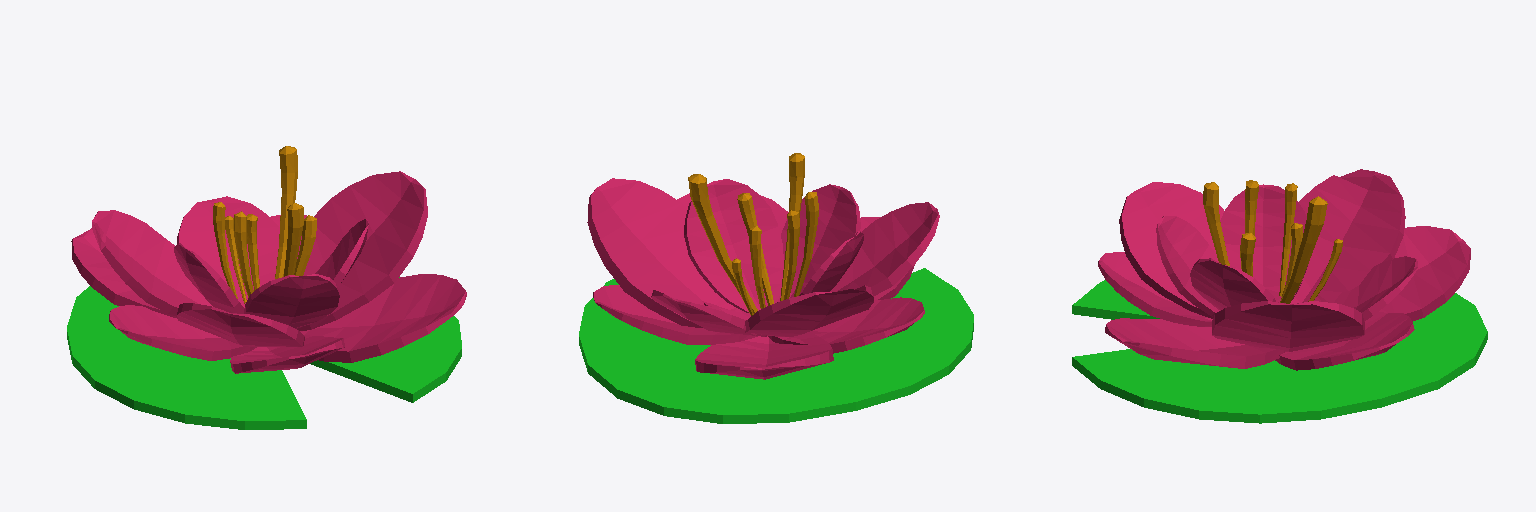
The model's file is florAbierta.obj.
The picture shows the model from 3 angles: view 1: azimuth 30°, elevation 25°; view 2: azimuth 150°, elevation 25°; view 3: azimuth 270°, elevation 25°; orthographic projection.
Visible parts, largest first — view 1: Cylinder; view 2: Cylinder; view 3: Cylinder.
Part boxes in pixels (x1,y1,x2,y2): Cylinder: (67, 146, 466, 429); Cylinder: (579, 153, 973, 423); Cylinder: (1072, 169, 1487, 423).
Bounding box in the file's own units: 4 × 1.88 × 4.2.